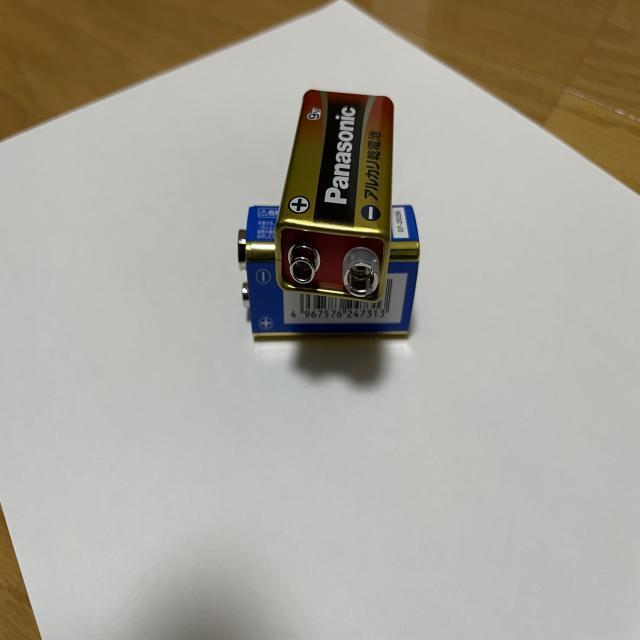9V: (273, 88, 395, 306), (237, 205, 420, 342)
